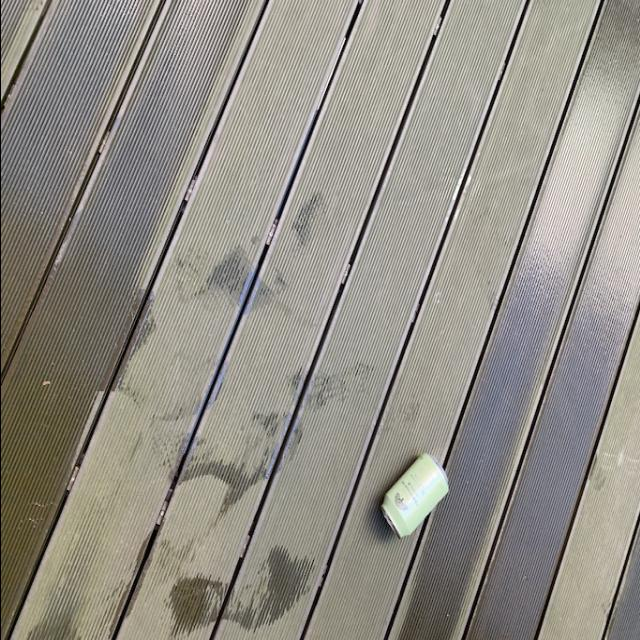Aluminum Can: (373, 446, 449, 542)
